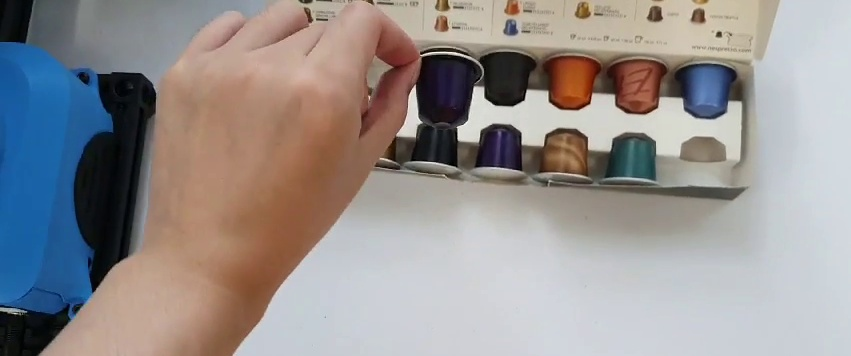capsule_2: (407, 49, 483, 127)
